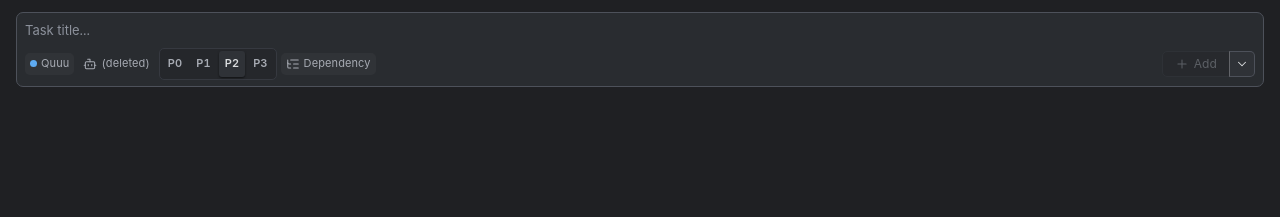
Test: choosing how to queue › can be chosen before anything is written (choose first, write after)
The width and height of the screenshot is (1280, 217).
Step 1. Click the button named "How to add" → click(1242, 64), box [1229, 51, 1255, 77]
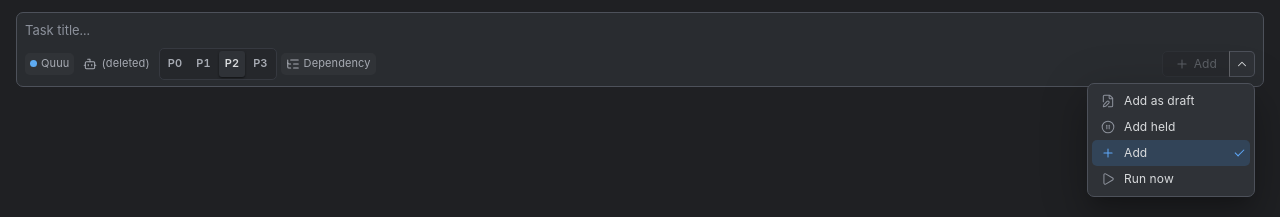
Check: the menu item "Add as draft" is shown, box [1092, 88, 1250, 114]
Check: the text "Run now" is shown, box [1124, 171, 1174, 186]
